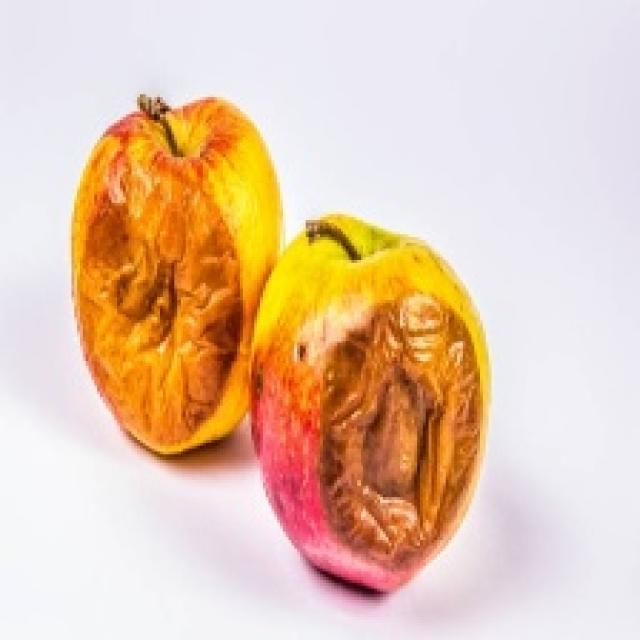rotten_apple: (259, 221, 485, 589), (69, 103, 252, 451)
